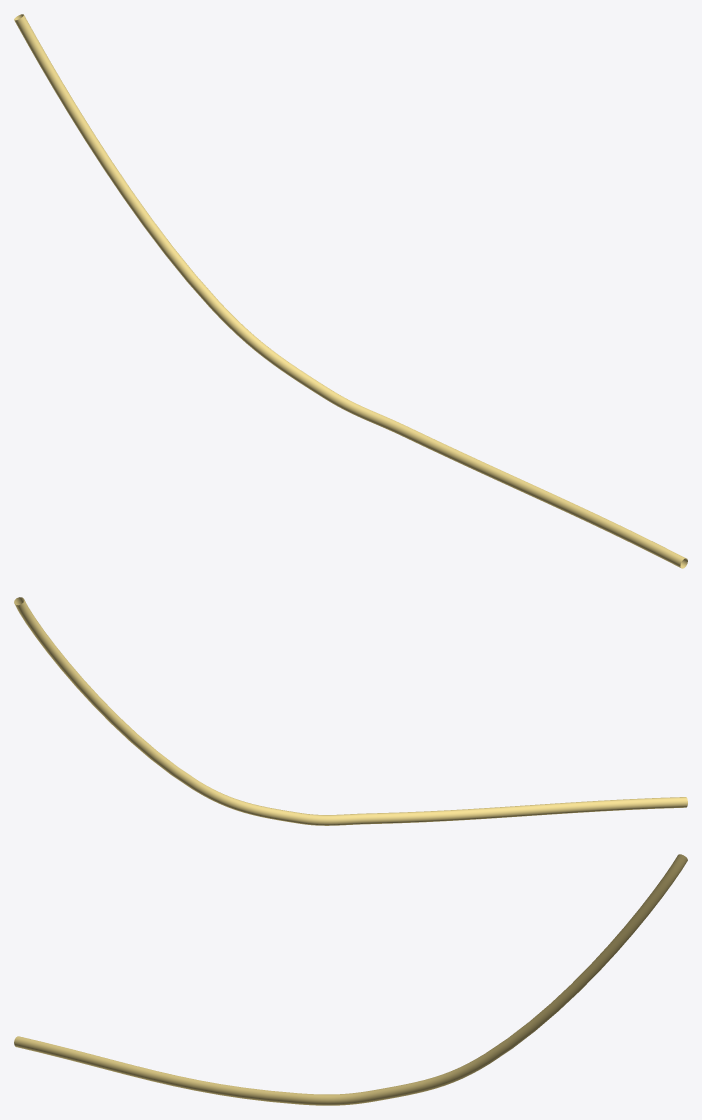
3 renders of one model, top to bottom at view 1: azimuth 90°, elevation 25°; view 2: azimuth 150°, elevation 25°; view 3: azimuth 270°, elevation 25°, orthographic. The views are drawn at different scales.
Visible parts, largest first — view 1: ZA_a538e30a68d39f78; view 2: ZA_a538e30a68d39f78; view 3: ZA_a538e30a68d39f78.
Boxes of the visible parts, x1,y1,x2,y2 form: ZA_a538e30a68d39f78: (14, 14, 687, 568); ZA_a538e30a68d39f78: (14, 597, 687, 825); ZA_a538e30a68d39f78: (14, 854, 687, 1105).
Bounding box in the file's own units: 0.0384 × 0.036 × 0.059.
